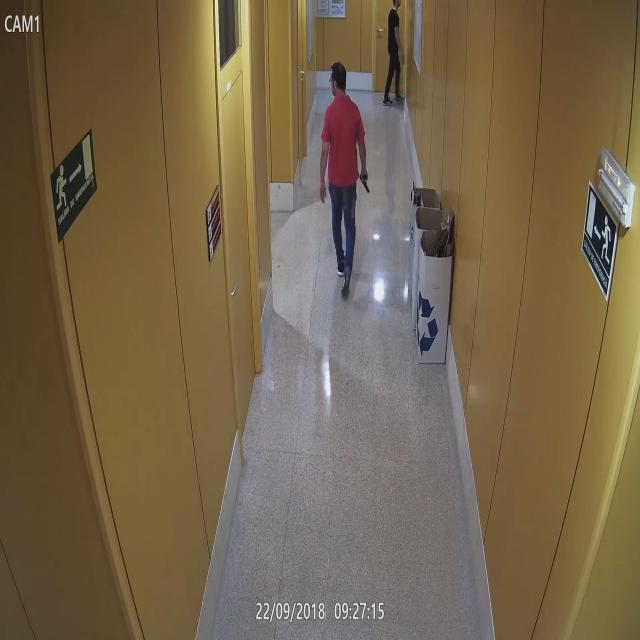weapon: (358, 173, 371, 193)
